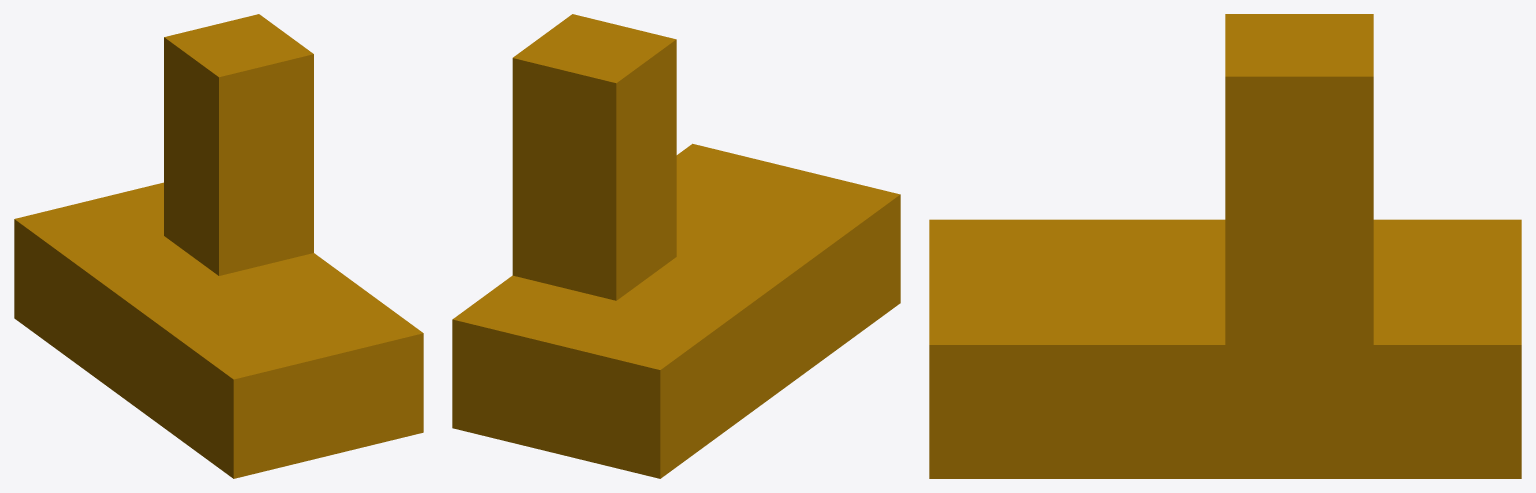
The model's file is Chicken_FootR.fbx.
3 views of the same model, side by side, from view 1: azimuth 30°, elevation 25°; view 2: azimuth 150°, elevation 25°; view 3: azimuth 270°, elevation 25° (orthographic). The views are drawn at different scales.
Parts seen in each view (by area): view 1: Chicken_FootR; view 2: Chicken_FootR; view 3: Chicken_FootR.
Part boxes in pixels (x1,y1,x2,y2): Chicken_FootR: [14, 14, 423, 478]; Chicken_FootR: [452, 14, 900, 478]; Chicken_FootR: [929, 14, 1521, 478].
Size of the model in its own units: 20 by 30 by 40.
